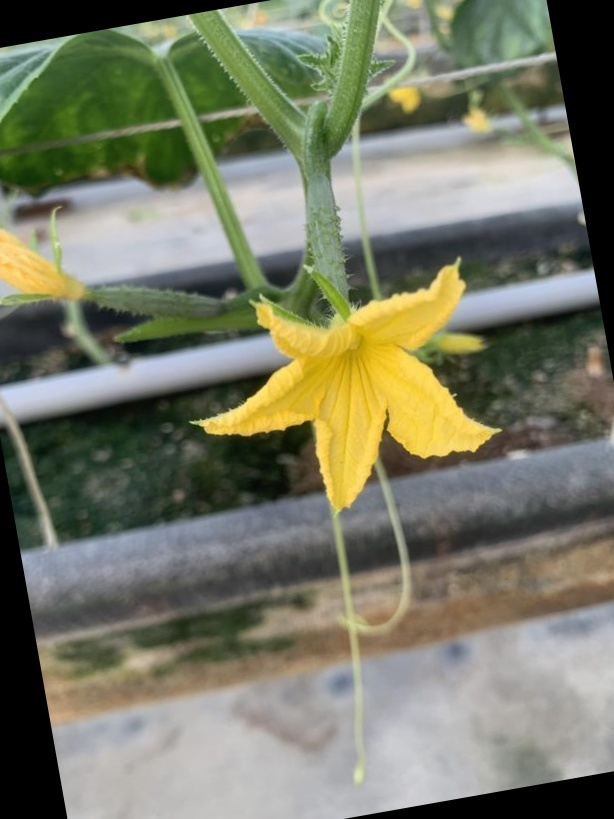bear: (0, 231, 224, 342)
flowering: (188, 161, 496, 512)
